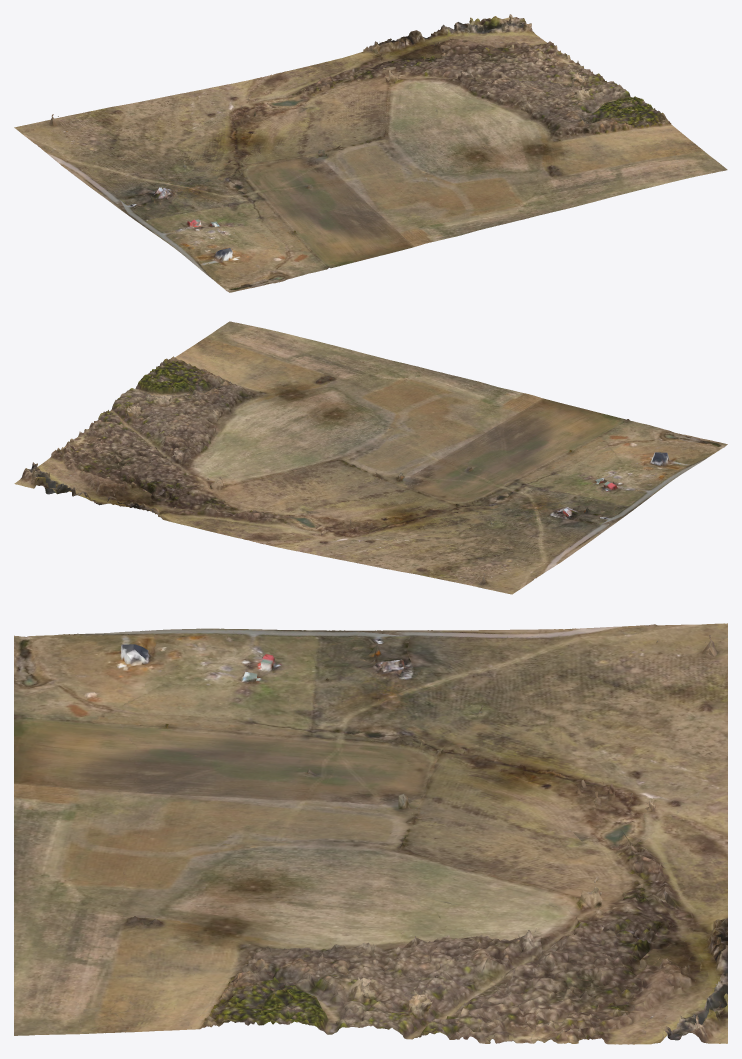
Rendered from landscape-ground.glb.
3 views of the same model, one above another, from view 1: azimuth 30°, elevation 25°; view 2: azimuth 150°, elevation 25°; view 3: azimuth 270°, elevation 25° (orthographic). The views are drawn at different scales.
Visible parts, largest first — view 1: land; view 2: land; view 3: land.
Boxes of the visible parts, left/top/right/bottom form: land: left=14, top=14, right=727, bottom=292; land: left=14, top=321, right=727, bottom=594; land: left=14, top=623, right=727, bottom=1044.
Size of the model in its own units: 588 by 29.93 by 441.
Materials: 1 (1 with a texture image).
